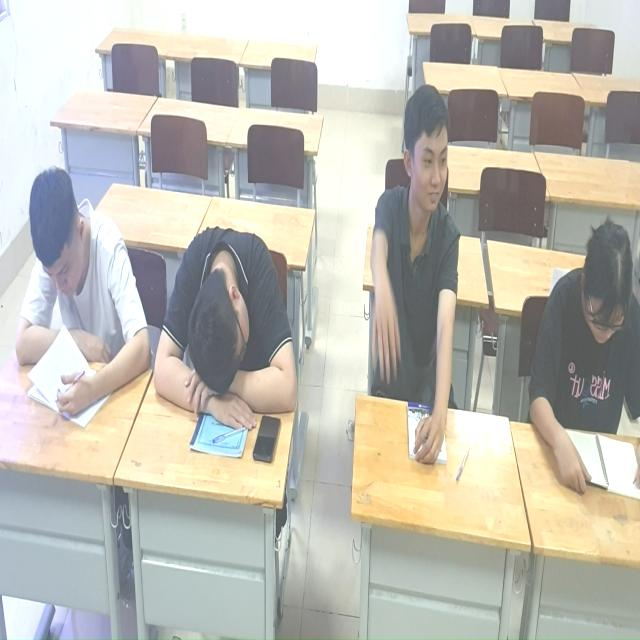raise_hand: (367, 78, 468, 459)
read: (9, 155, 145, 422), (519, 215, 640, 499)
sleep: (153, 206, 302, 435)
